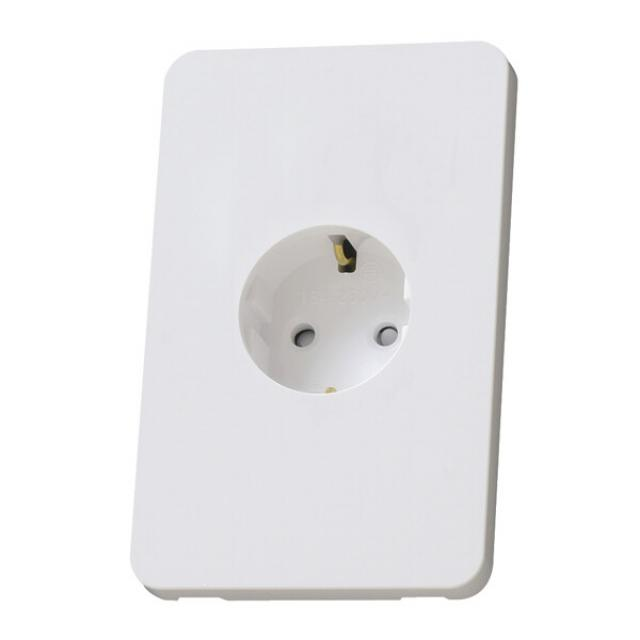typeb: (70, 23, 550, 627)
